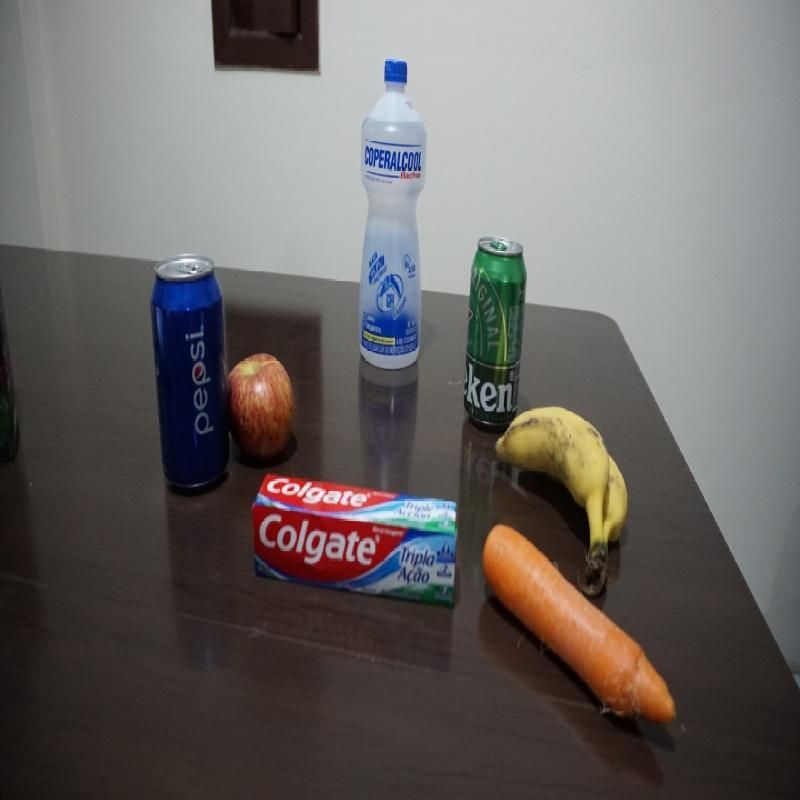Alcohol Bottle: (358, 56, 428, 374)
Apple: (230, 352, 295, 460)
Banana: (493, 404, 631, 600)
Beer can: (459, 236, 526, 434)
Carrot: (483, 522, 678, 736)
Soda can: (151, 254, 232, 495)
Toothpaste: (251, 474, 459, 613)
